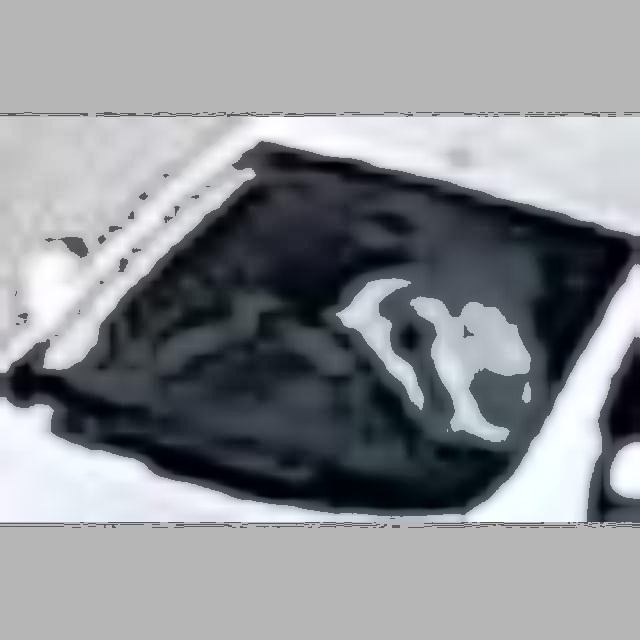pakai: (320, 224, 523, 437)
